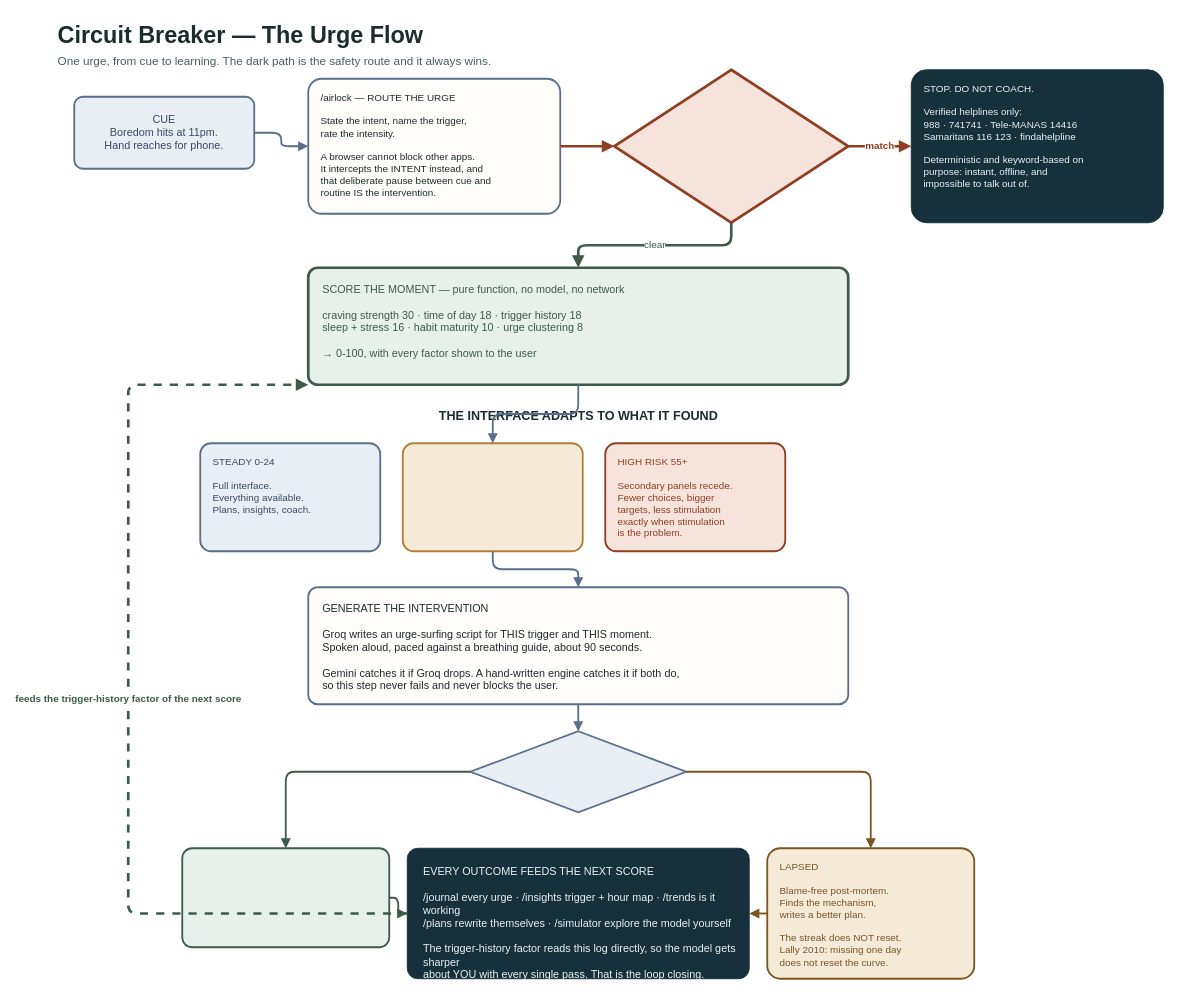
This 1179x997 diagram has some shape labels left out. The shapes that lost their labels are listed below. From the top down, each one's box as (x1, y1, x2, y2) in pixels, then its label:
(612, 68, 849, 224): CRISIS GATE Keyword screen, runs on the server BEFORE any model sees the text
(401, 442, 583, 552): TEMPTED 25-54 Surface warms. Relevant if-then plan surfaces first.
(469, 730, 687, 813): WHAT HAPPENED?
(181, 847, 390, 948): RODE IT OUT Credits the plan that defended you, so plans earn a track record.
